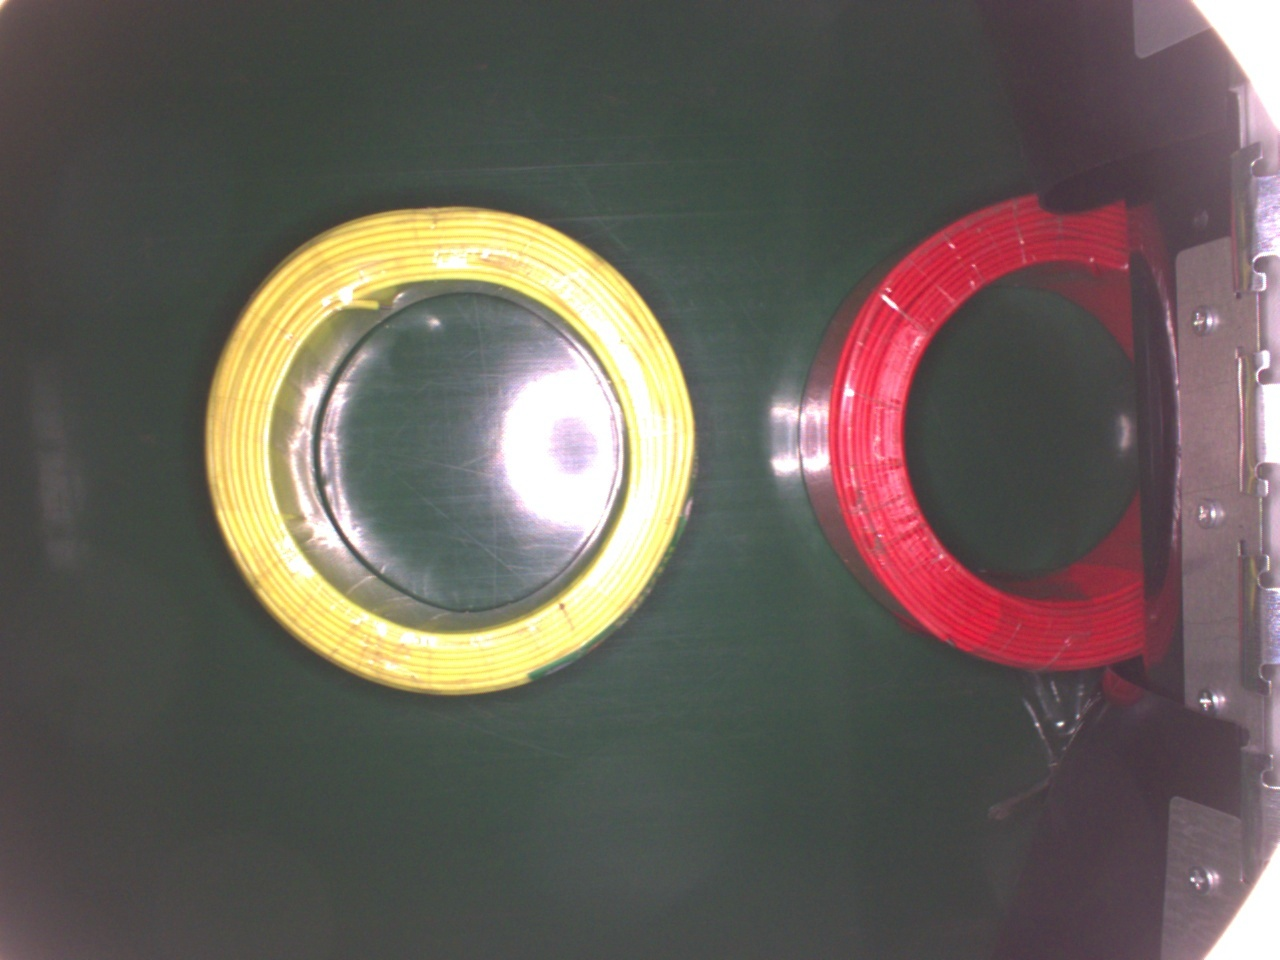red: (795, 189, 1149, 673)
yellow: (202, 203, 696, 696)
